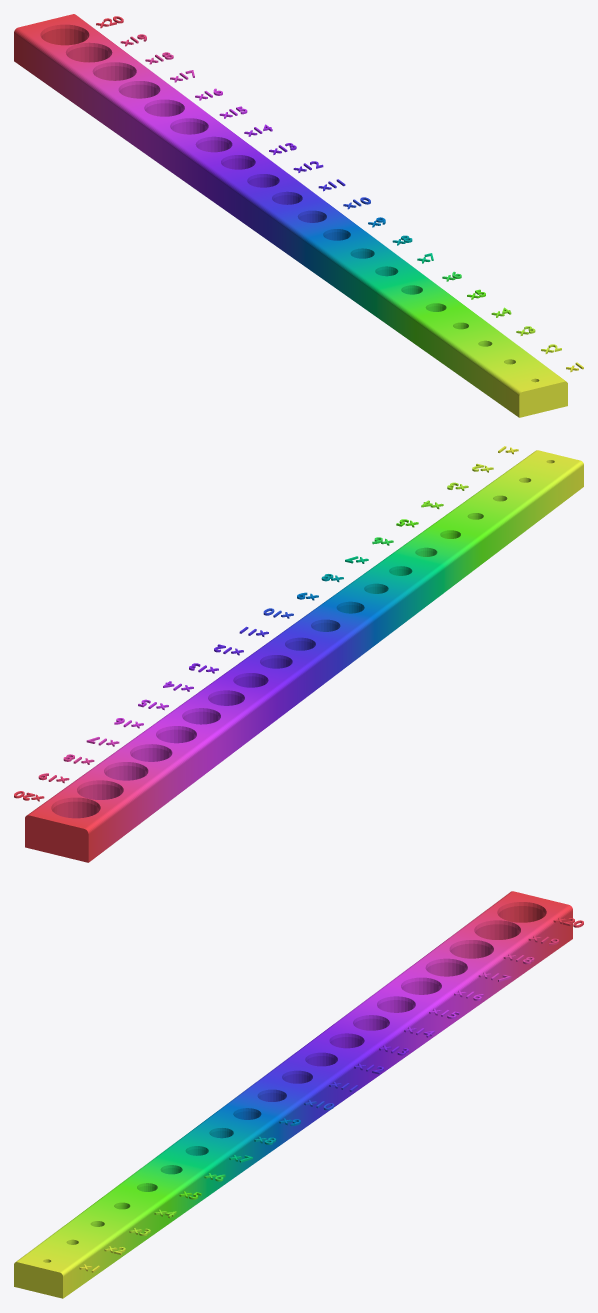
The model's file is FinalPlatformV2.fbx.
3 views of the same model, one above another, from view 1: azimuth 30°, elevation 25°; view 2: azimuth 150°, elevation 25°; view 3: azimuth 330°, elevation 25° (orthographic).
Visible parts, largest first — view 1: Cube.005, Text; view 2: Cube.005, Text; view 3: Cube.005, Text.
Boxes of the visible parts, bbox=[...] form: Cube.005: bbox=[14, 14, 567, 417]; Text: bbox=[96, 16, 583, 372]; Cube.005: bbox=[25, 450, 583, 862]; Text: bbox=[14, 446, 518, 801]; Cube.005: bbox=[14, 891, 572, 1298]; Text: bbox=[79, 917, 583, 1272].
Size of the model in its own units: 529 by 191 by 5035.
1 material, 1 textured.
